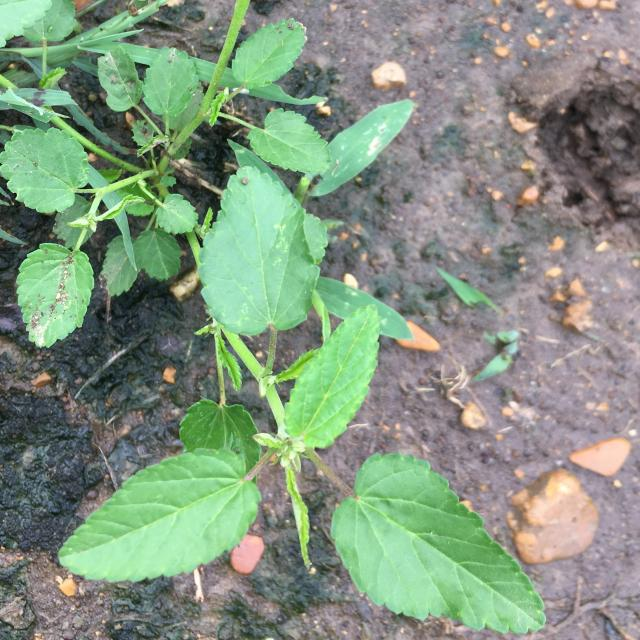PricklySida: (0, 0, 547, 635)
